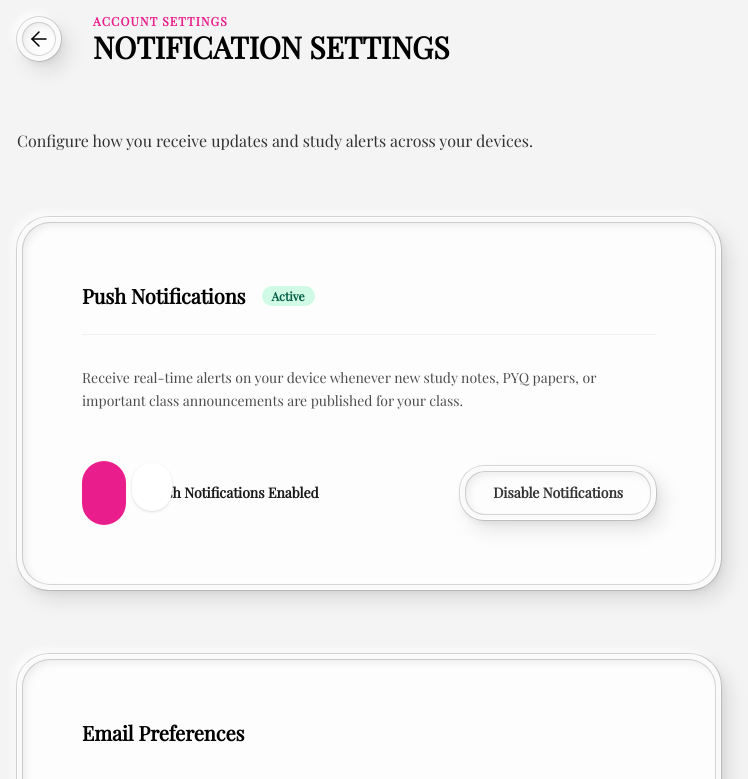
NotificationSettings Component › recovers processing state safely when unsubscribeFromPushNotifications throws an unexpected error
Step 1. Click the button "Disable Notifications" → (558, 492), box [460, 466, 656, 520]
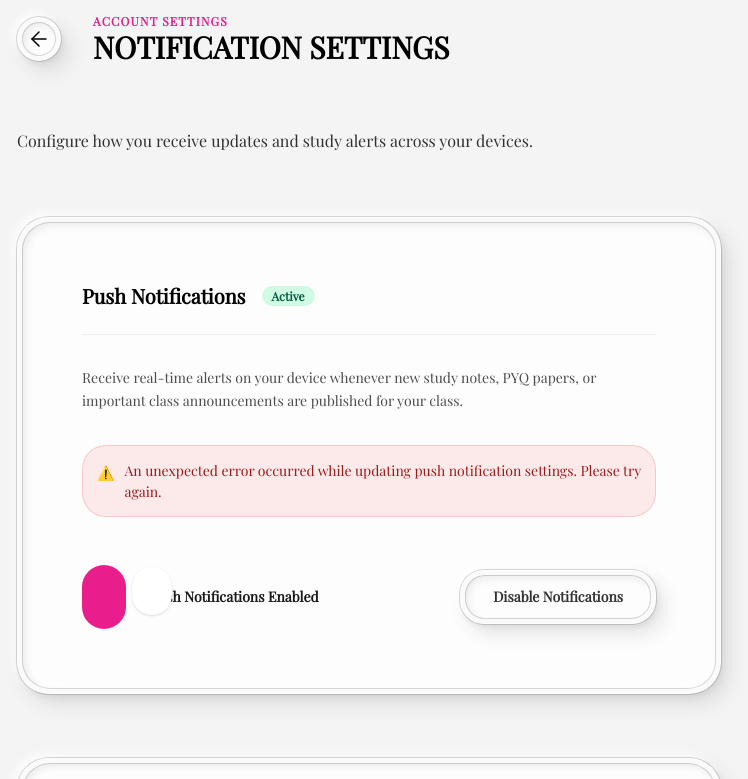
Now the message shows "An unexpected error occurred while updating push notification settings.", box [124, 460, 641, 500]
